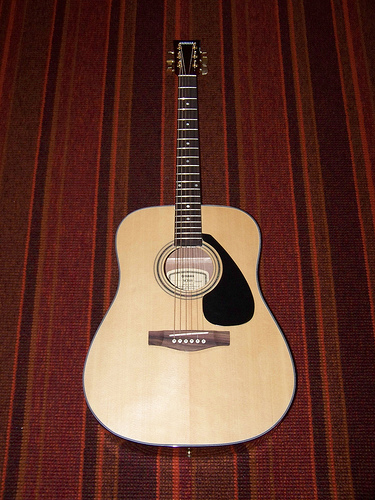guitar: (81, 38, 297, 450)
